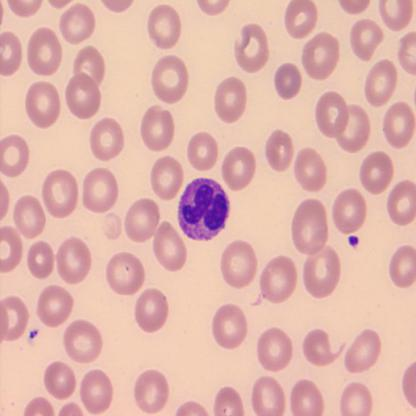Segmented neutrophil: (176, 172, 233, 245)
